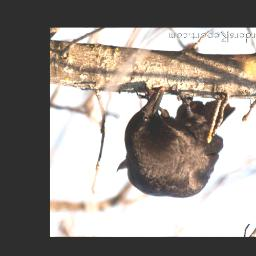Crow: (113, 86, 238, 200)
